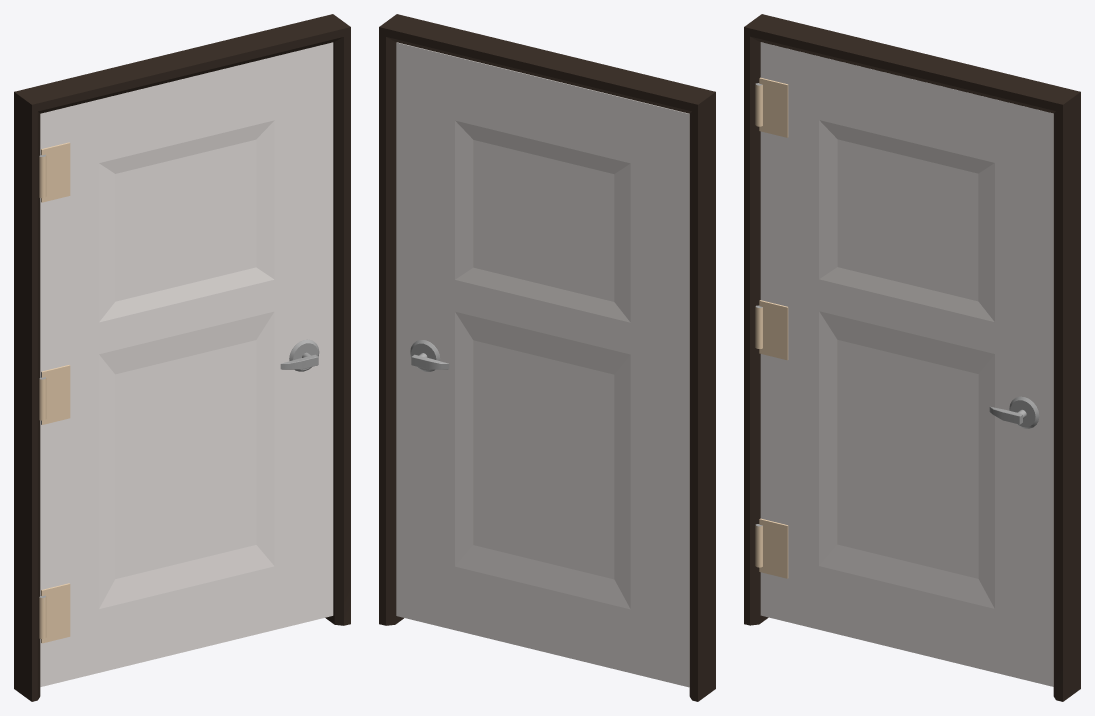
The model's file is DoorClosed.fbx.
The picture shows the model from 3 angles, left to right: view 1: azimuth 30°, elevation 25°; view 2: azimuth 150°, elevation 25°; view 3: azimuth 330°, elevation 25°; orthographic projection.
Parts seen in each view (by area): view 1: pCube20; view 2: pCube20; view 3: pCube20.
Part boxes in pixels (x1,y1,x2,y2): pCube20: (14,14,350,701); pCube20: (379,14,715,701); pCube20: (744,14,1080,701).
Bounding box in the file's own units: 5.45 × 9.74 × 0.8473.
1 material, 1 textured.
